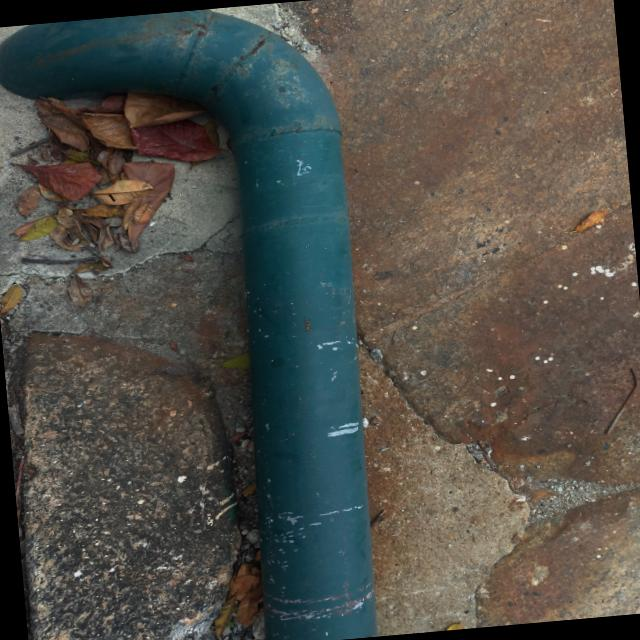gas: (215, 67, 382, 640), (0, 7, 242, 118)
